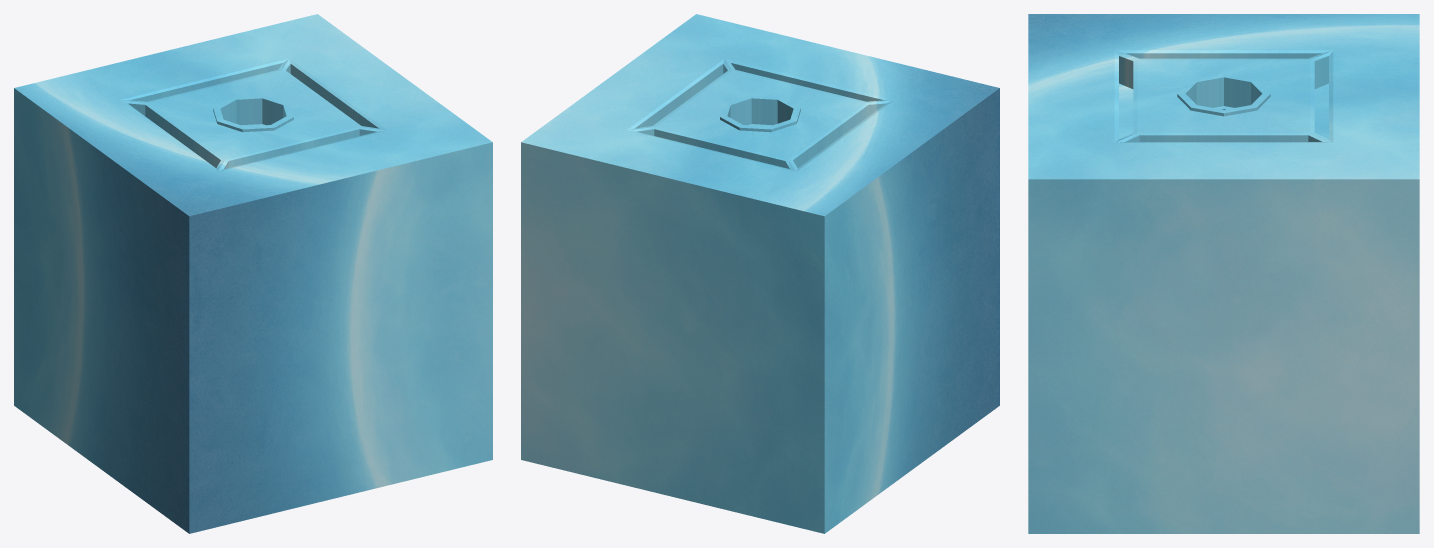
Rendered from rod_b.obj.
The picture shows the model from 3 angles, left to right: view 1: azimuth 30°, elevation 25°; view 2: azimuth 150°, elevation 25°; view 3: azimuth 270°, elevation 25°; orthographic projection. The views are drawn at different scales.
Visible parts, largest first — view 1: rod_b; view 2: rod_b; view 3: rod_b.
Boxes of the visible parts, x1=… form: rod_b: x1=14, y1=14, x2=492, y2=533; rod_b: x1=521, y1=14, x2=999, y2=533; rod_b: x1=1028, y1=14, x2=1419, y2=533.
Size of the model in its own units: 0.9703 by 0.9787 by 0.9703.
Materials: 1 (1 with a texture image).
